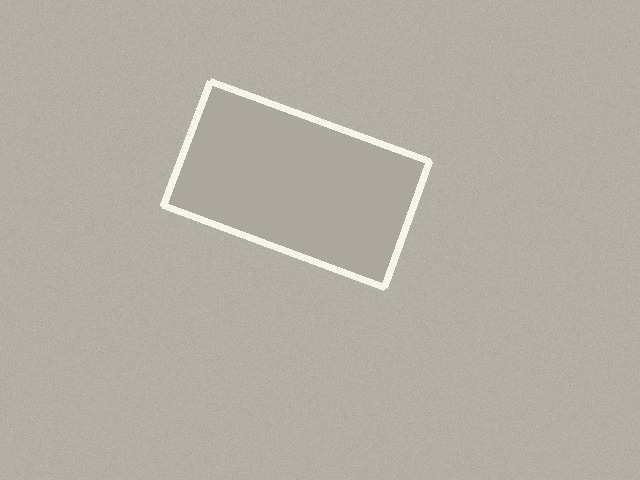parking_area: (163, 81, 429, 287)
